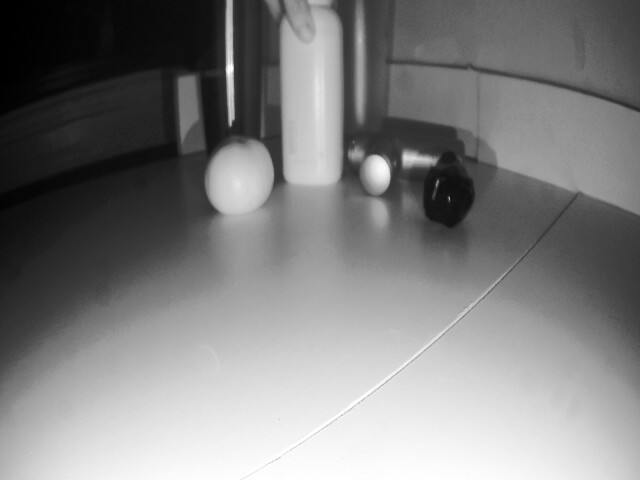black: (417, 150, 477, 221)
